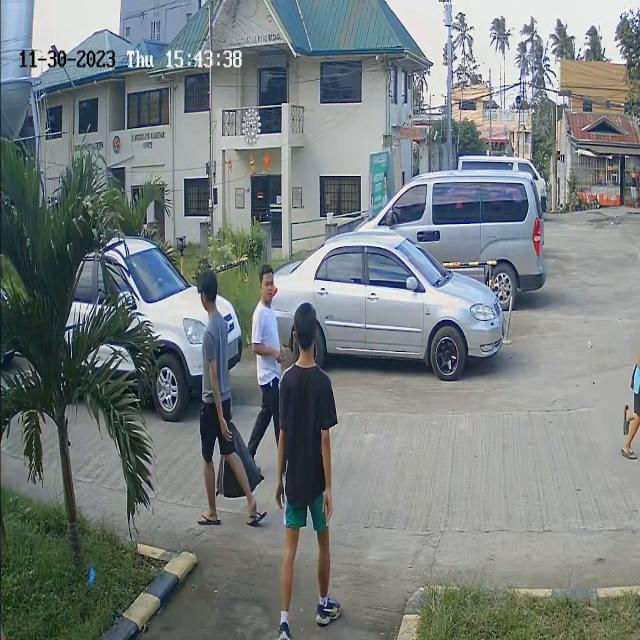person: (194, 268, 233, 411), (284, 300, 326, 391), (253, 260, 281, 348)
